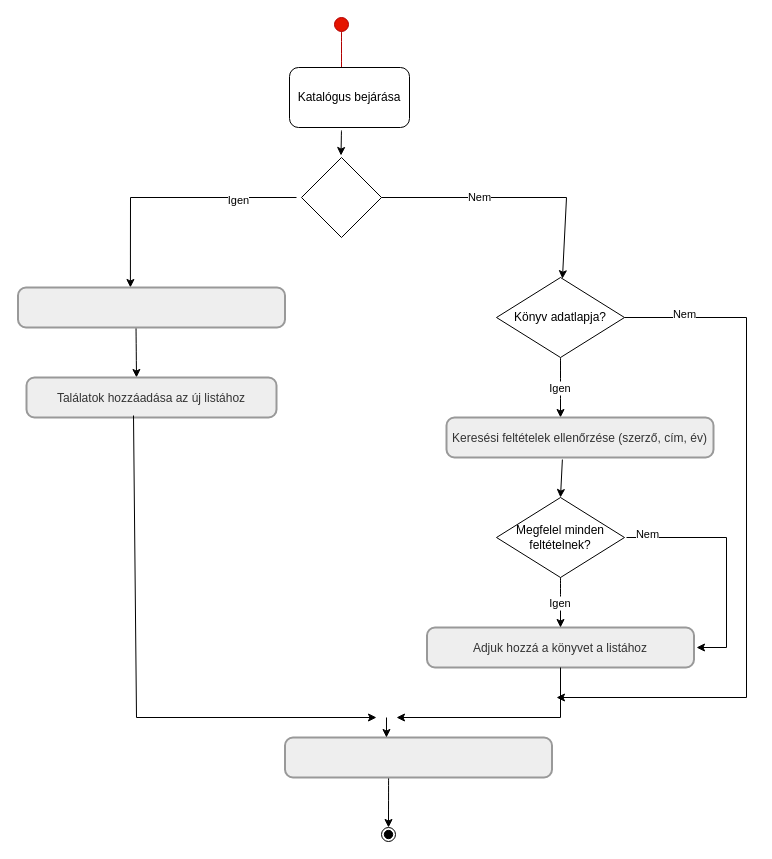
Image size: 772x859. Some labels were removed from this diagram. Each missing label, with the centre of its shape:
"Adjuk vissza a megtalált könyvek listáját" goes at point 418,757.
"Elem típusa katalógus?" goes at point 341,197.
"Keressük a könyvet a belső gyűjteményben" goes at point 151,307.
